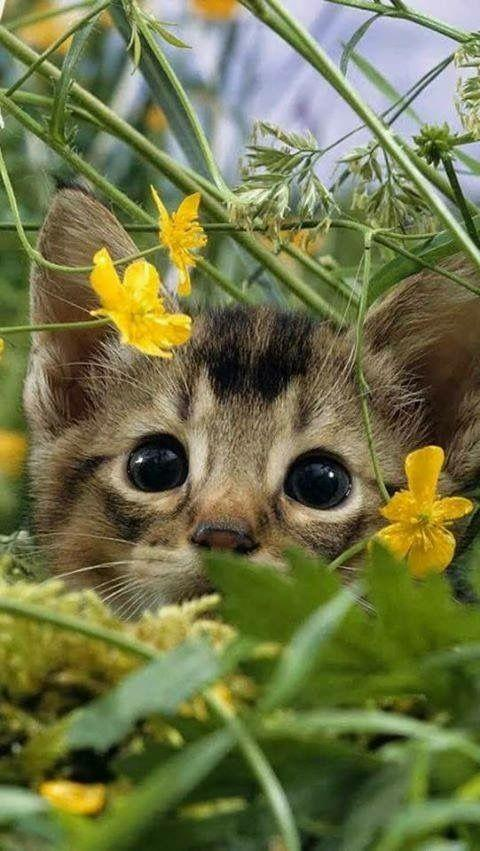kedo: (25, 187, 480, 609)
